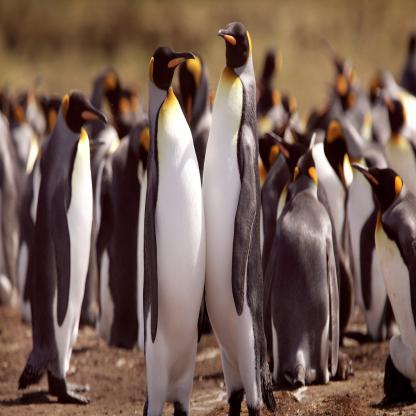Penguin: (202, 12, 291, 416), (14, 78, 118, 409), (132, 40, 210, 416), (253, 126, 360, 396), (350, 152, 416, 416)
